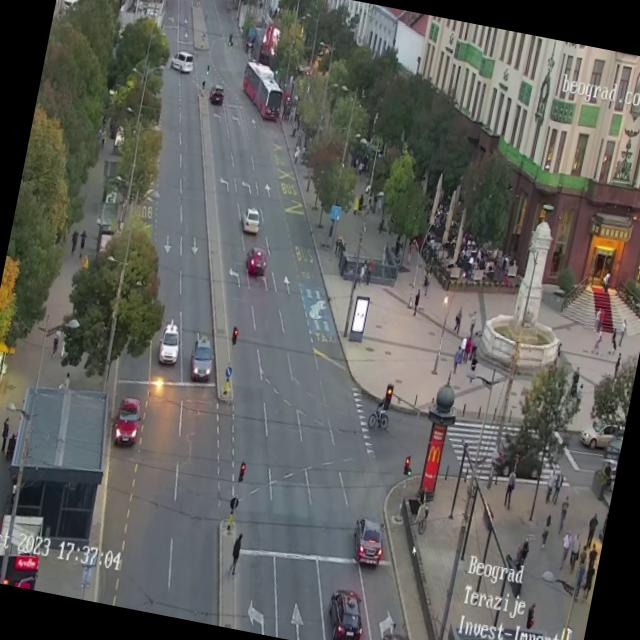bus: (236, 59, 288, 122)
car: (491, 431, 551, 485), (321, 587, 369, 640), (348, 514, 388, 568), (110, 394, 144, 448), (581, 412, 626, 452), (185, 332, 218, 384), (155, 318, 184, 366), (243, 244, 270, 278), (169, 49, 197, 79), (240, 206, 262, 236), (208, 84, 226, 106)
